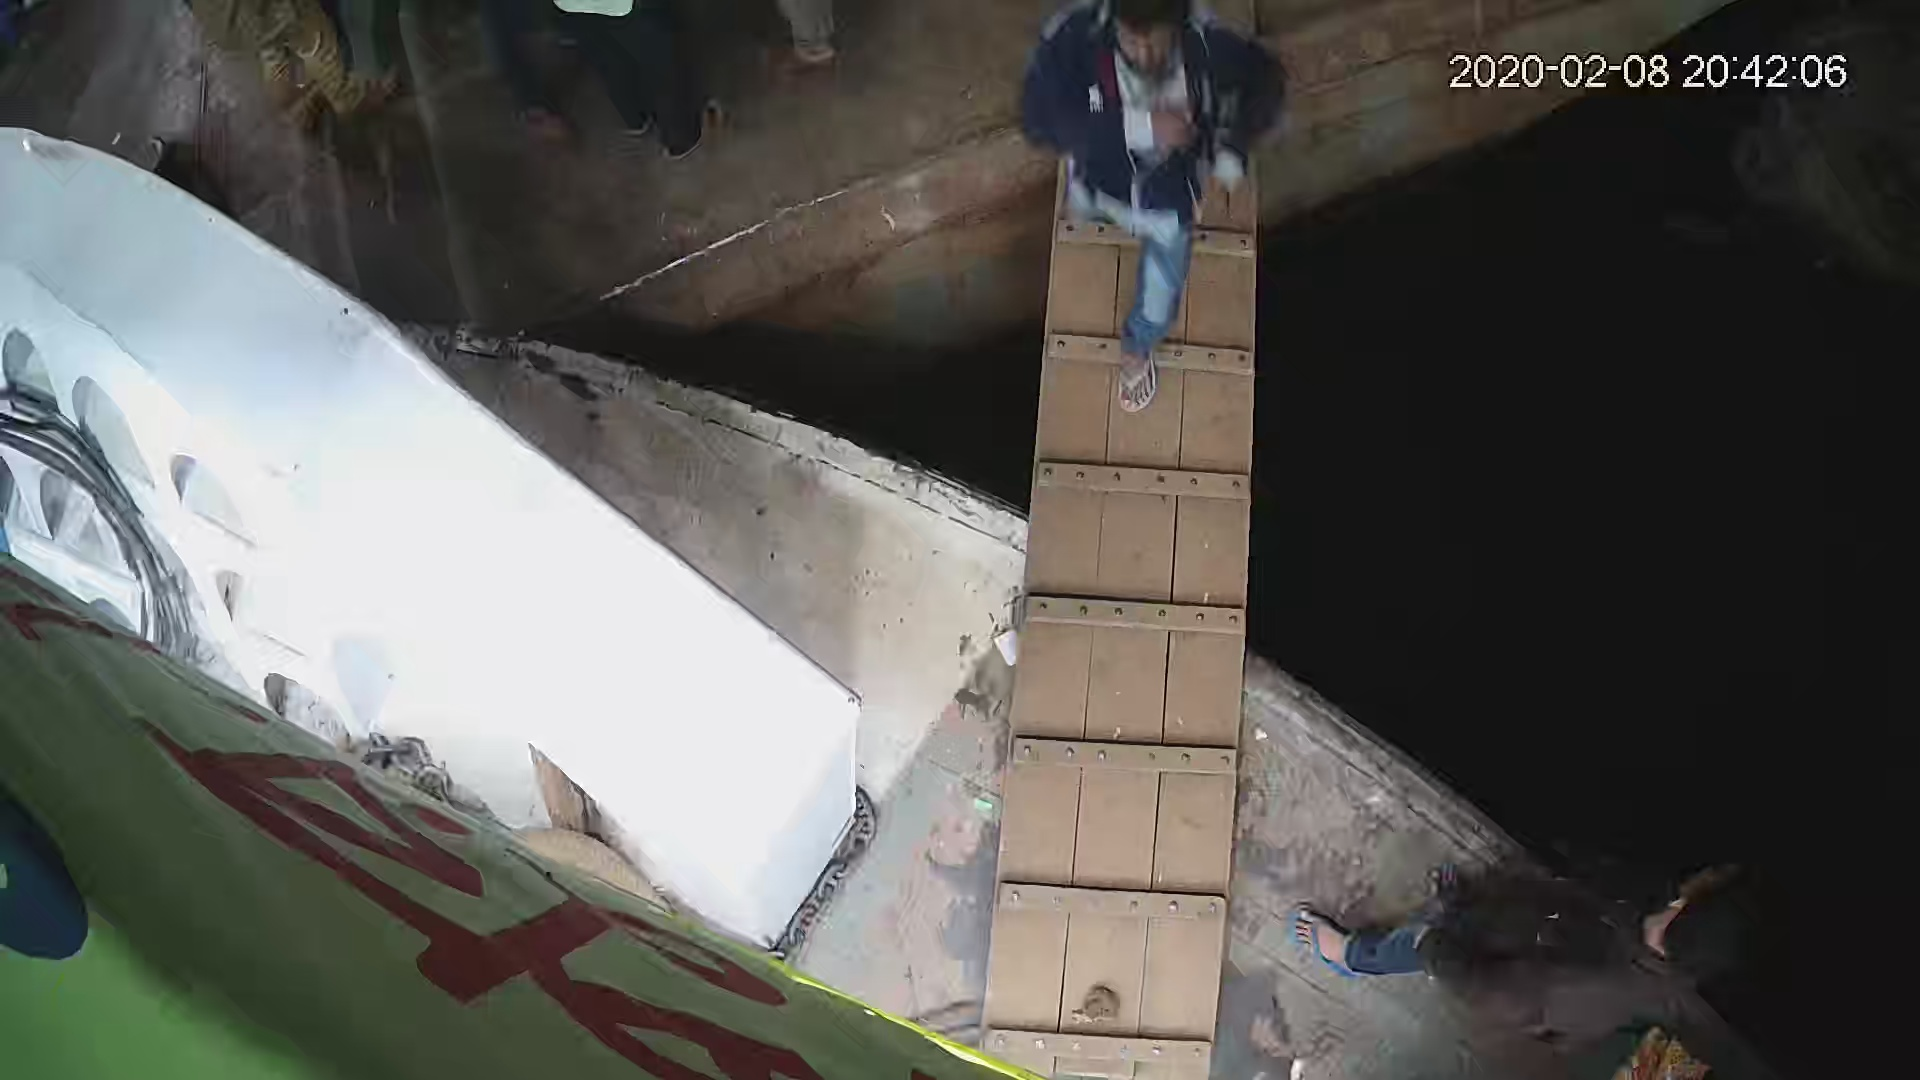person: (1010, 1, 1296, 418), (1288, 830, 1779, 1049)
